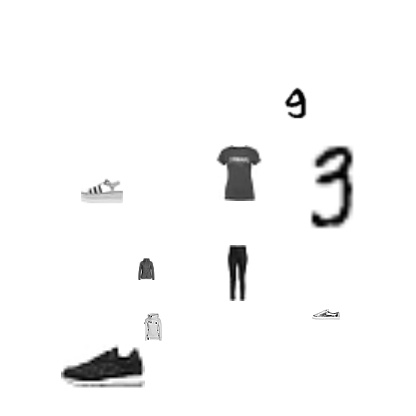3: (276, 127, 388, 239)
9: (276, 82, 318, 124)
Coat: (135, 258, 157, 280)
Pullover: (139, 313, 167, 341)
Sandal: (81, 170, 123, 212)
Sneaker: (61, 324, 145, 408), (312, 300, 340, 328)
T-shirt/top: (211, 145, 267, 201)
Trouser: (210, 245, 266, 301)
